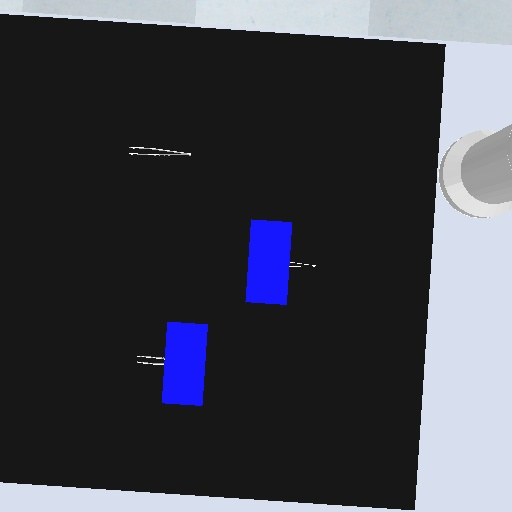pinza: (126, 143, 194, 162), (133, 352, 166, 369), (289, 258, 321, 272)
